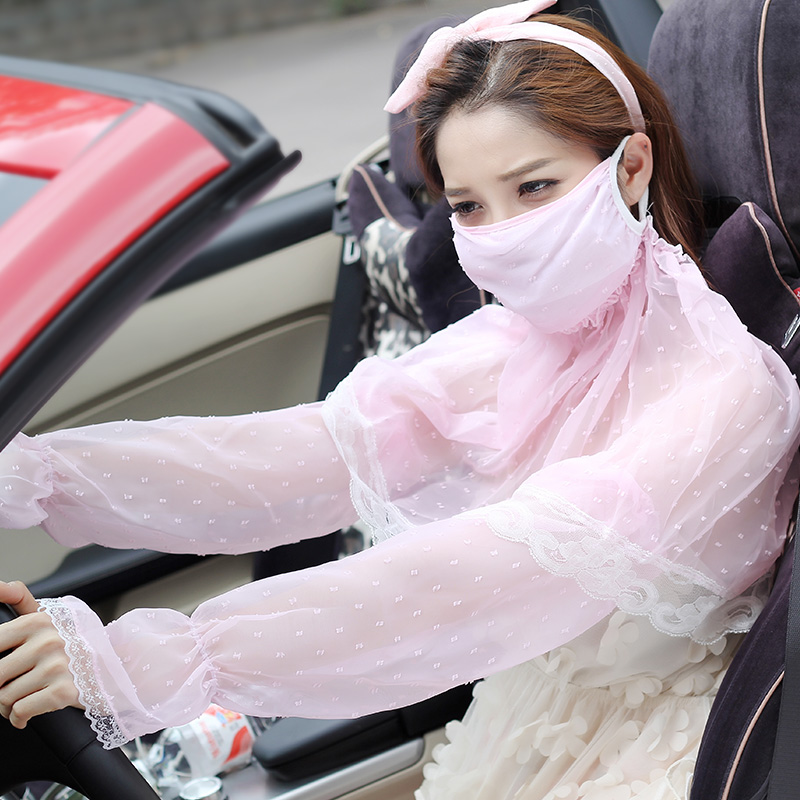face_mask: (440, 138, 613, 333)
